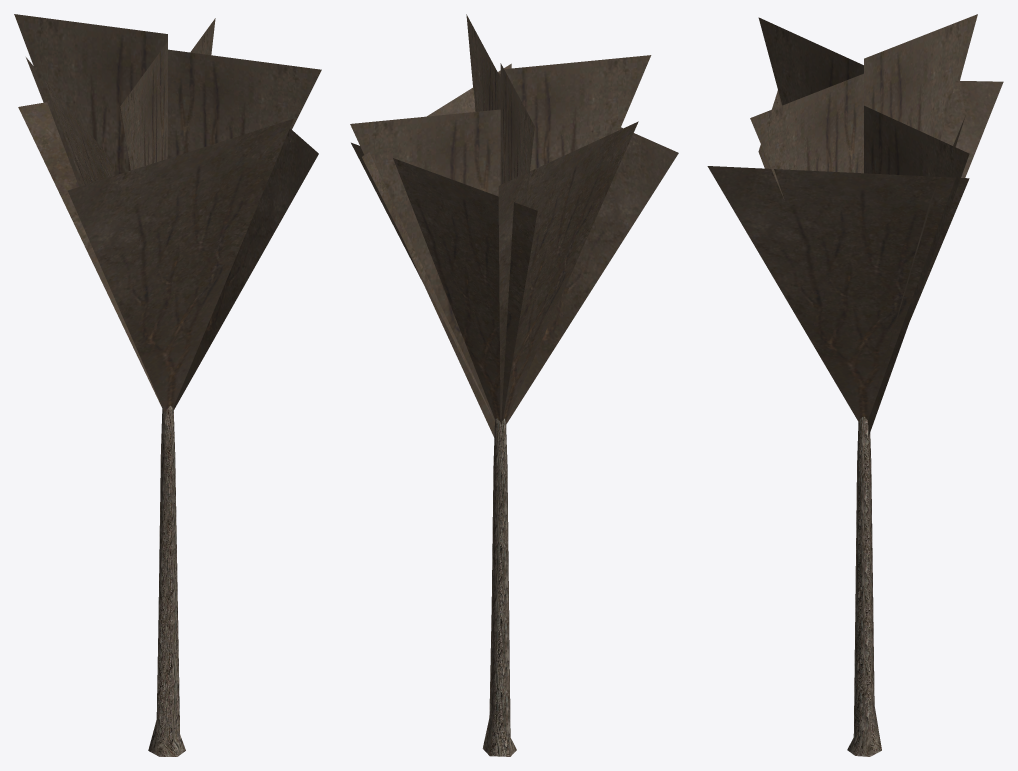
Rendered from smalltree2a.fbx.
3 views of the same model, side by side, from view 1: azimuth 30°, elevation 25°; view 2: azimuth 150°, elevation 25°; view 3: azimuth 270°, elevation 25° (orthographic). The views are drawn at different scales.
Visible parts, largest first — view 1: mesh_6, mesh_4, mesh_3, mesh_0, mesh_7, mesh_2, mesh_8, mesh_5; view 2: mesh_8, mesh_5, mesh_1, mesh_2, mesh_6, mesh_0, mesh_4, mesh_7, mesh_3; view 3: mesh_7, mesh_4, mesh_3, mesh_1, mesh_0, mesh_2, mesh_5.
Boxes of the visible parts, x1=… form: mesh_6: x1=68, y1=118, x2=293, y2=413; mesh_4: x1=14, y1=14, x2=167, y2=407; mesh_3: x1=168, y1=49, x2=321, y2=158; mesh_0: x1=148, y1=405, x2=185, y2=756; mesh_7: x1=173, y1=128, x2=318, y2=411; mesh_2: x1=120, y1=41, x2=167, y2=170; mesh_8: x1=18, y1=102, x2=161, y2=405; mesh_5: x1=26, y1=57, x2=114, y2=185; mesh_8: x1=351, y1=142, x2=537, y2=424; mesh_5: x1=498, y1=121, x2=638, y2=424; mesh_1: x1=350, y1=109, x2=500, y2=437; mesh_2: x1=504, y1=55, x2=651, y2=170; mesh_6: x1=498, y1=73, x2=678, y2=424; mesh_0: x1=482, y1=418, x2=516, y2=756; mesh_4: x1=500, y1=63, x2=534, y2=206; mesh_7: x1=362, y1=63, x2=511, y2=421; mesh_3: x1=466, y1=14, x2=500, y2=111; mesh_7: x1=707, y1=166, x2=969, y2=422; mesh_4: x1=864, y1=14, x2=977, y2=140; mesh_3: x1=750, y1=73, x2=863, y2=199; mesh_1: x1=864, y1=105, x2=969, y2=436; mesh_0: x1=847, y1=416, x2=881, y2=756; mesh_2: x1=758, y1=17, x2=863, y2=105; mesh_5: x1=940, y1=80, x2=1003, y2=177.
Bounding box in the file's own units: 190 × 490 × 191.
2 materials, 2 textured.
